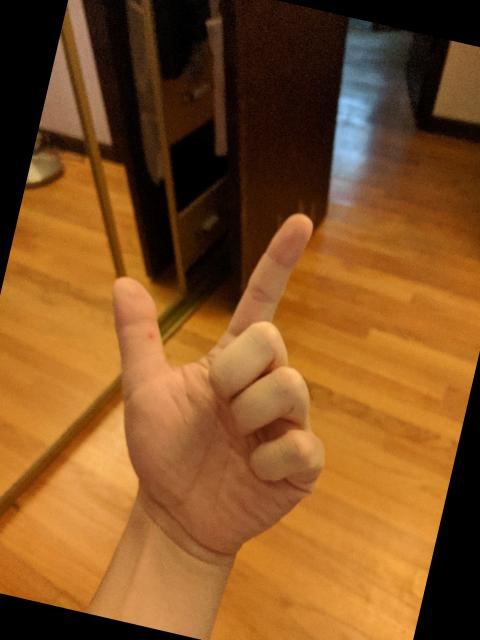L: (54, 168, 386, 572)
